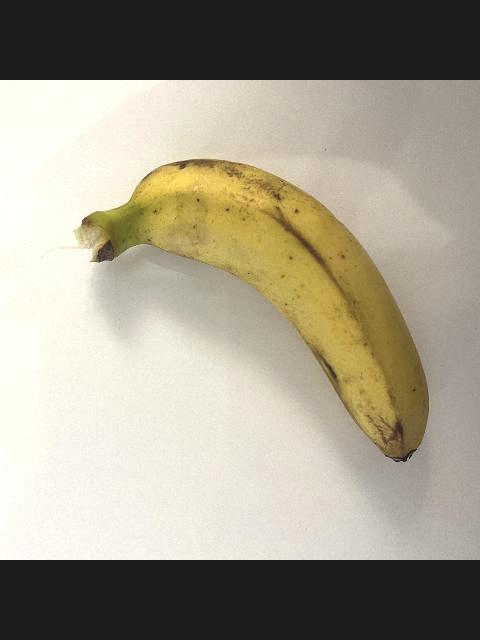banana: (72, 157, 430, 463)
